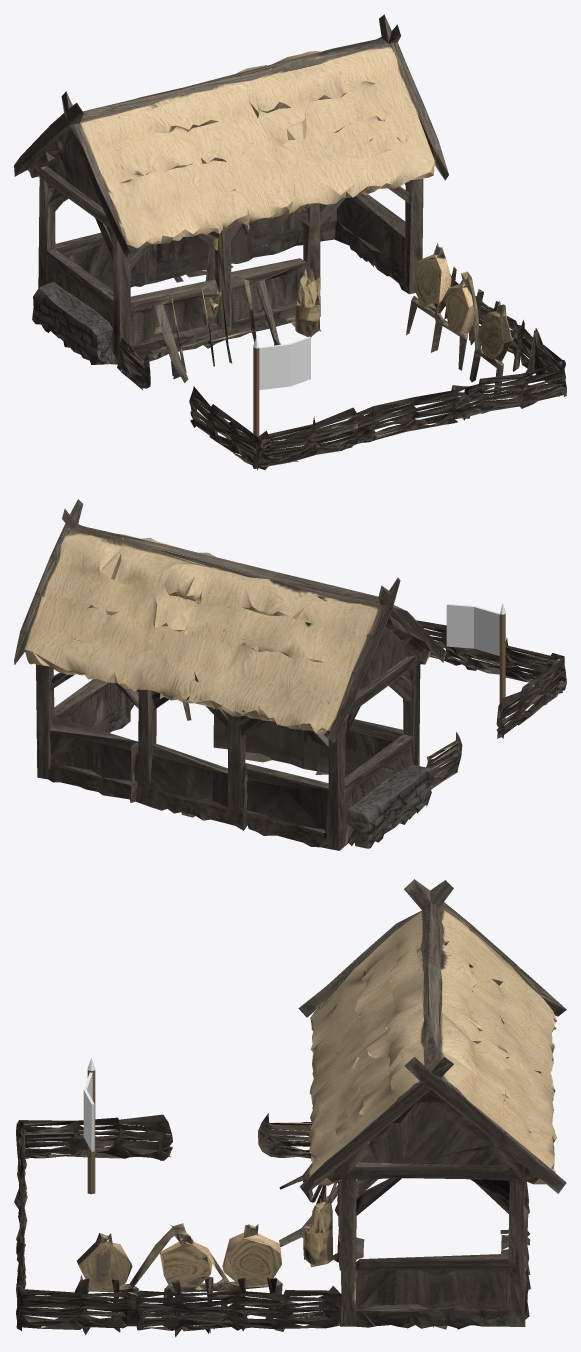
3 views of the same model, one above another, from view 1: azimuth 30°, elevation 25°; view 2: azimuth 150°, elevation 25°; view 3: azimuth 270°, elevation 25° (orthographic). The views are drawn at different scales.
Visible parts, largest first — view 1: archery_range, Team_banner; view 2: archery_range, Team_banner; view 3: archery_range, Team_banner.
Boxes of the visible parts, left/top/right/bottom form: archery_range: left=14, top=14, right=566, bottom=470; Team_banner: left=253, top=336, right=310, bottom=436; archery_range: left=14, top=499, right=566, bottom=850; Team_banner: left=446, top=603, right=505, bottom=719; archery_range: left=14, top=879, right=566, bottom=1337; Team_banner: left=83, top=1058, right=95, bottom=1194.
Size of the model in its own units: 1.48 by 1.1 by 1.87.
3 materials, 1 textured.
